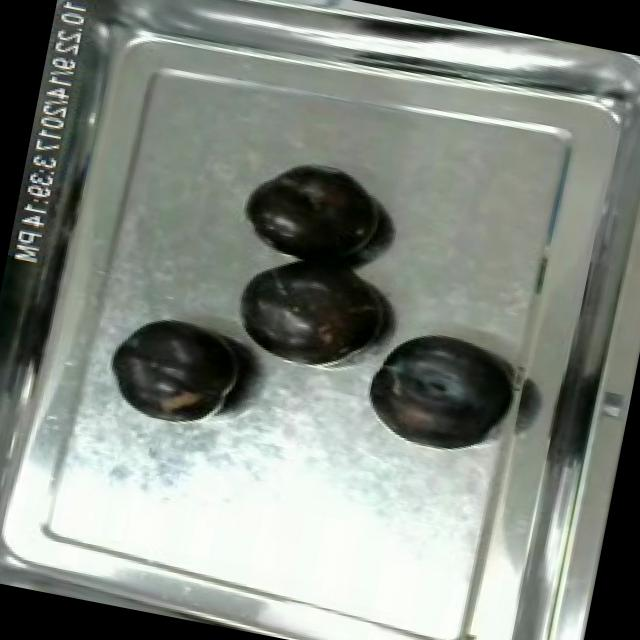Fruit: (221, 240, 398, 378), (356, 319, 524, 461), (98, 304, 258, 438), (232, 152, 388, 278)
